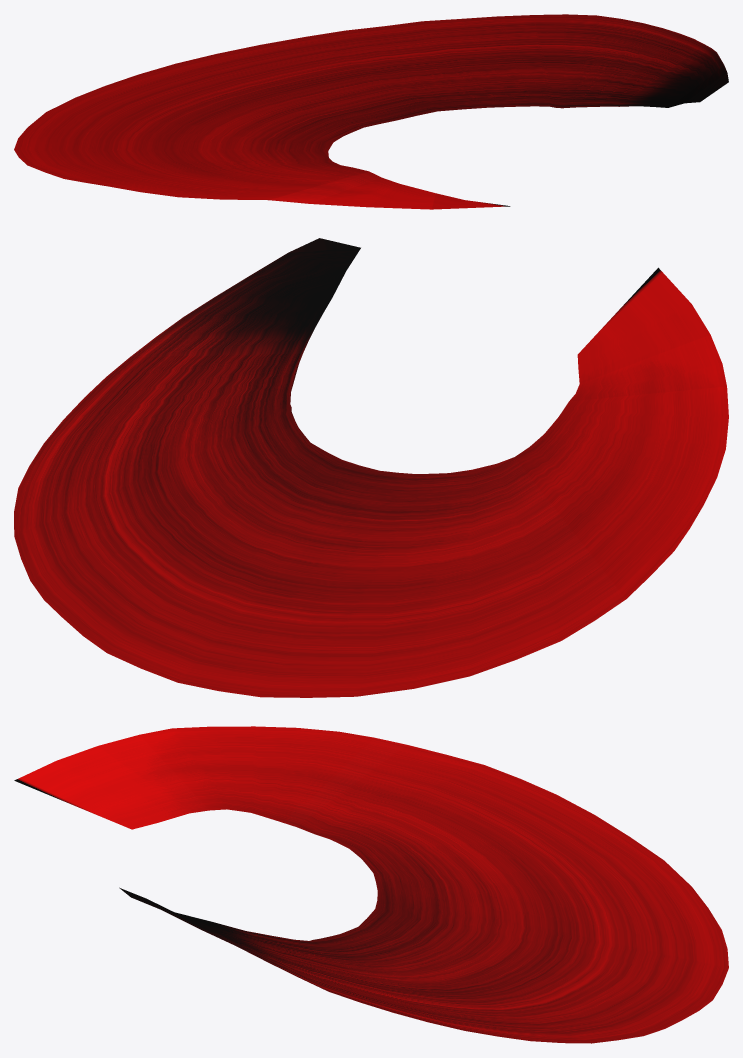
File: SLASH_L.fbx
3 renders of one model, top to bottom at view 1: azimuth 30°, elevation 25°; view 2: azimuth 150°, elevation 25°; view 3: azimuth 270°, elevation 25°, orthographic. The views are drawn at different scales.
Visible parts, largest first — view 1: MeshBaker_mesh_mesh; view 2: MeshBaker_mesh_mesh; view 3: MeshBaker_mesh_mesh.
Part boxes in pixels (<box>): MeshBaker_mesh_mesh: <box>14,14,728,209</box>; MeshBaker_mesh_mesh: <box>14,238,728,697</box>; MeshBaker_mesh_mesh: <box>14,726,728,1043</box>.
Bounding box in the file's own units: 511 × 134 × 570.
Materials: 1 (1 with a texture image).
